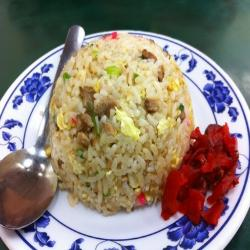rice: (48, 43, 187, 205)
